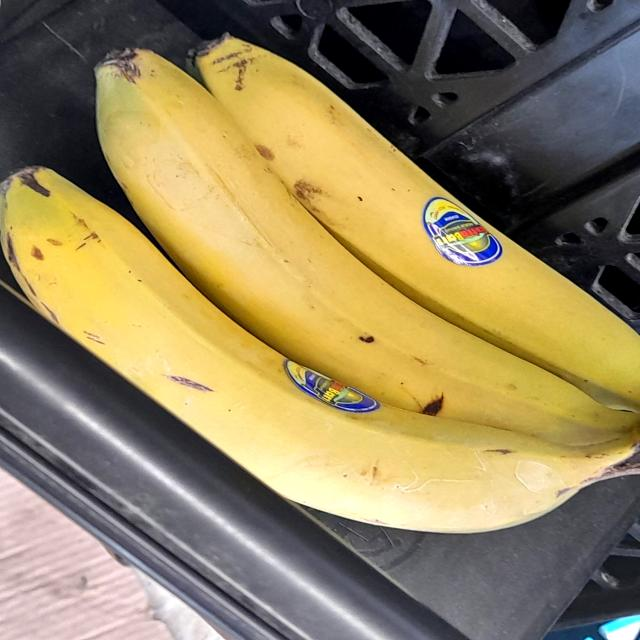banana: (0, 28, 640, 538)
